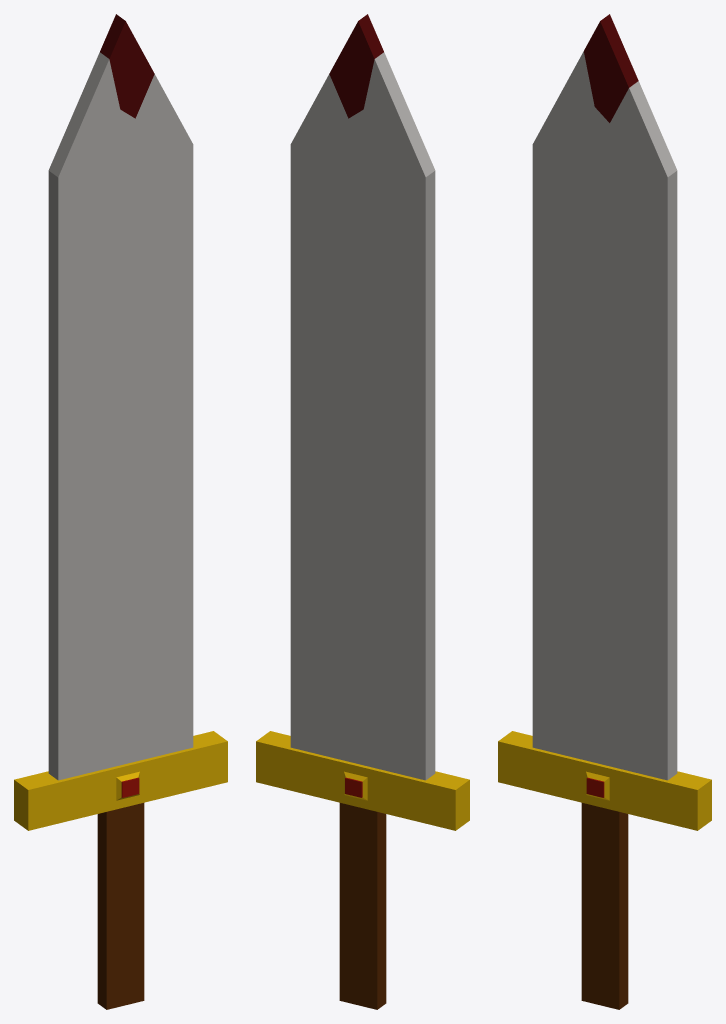
The model's file is Basic Greatsword.glb.
The picture shows the model from 3 angles, left to right: view 1: azimuth 30°, elevation 25°; view 2: azimuth 150°, elevation 25°; view 3: azimuth 330°, elevation 25°; orthographic projection.
Visible parts, largest first — view 1: Cube; view 2: Cube; view 3: Cube.
Boxes of the visible parts, box(x1,y1,x2,y2) form: Cube: box(14, 14, 227, 1009); Cube: box(256, 14, 469, 1009); Cube: box(498, 14, 711, 1009).
Size of the model in its own units: 5.96 by 28.08 by 1.01.
